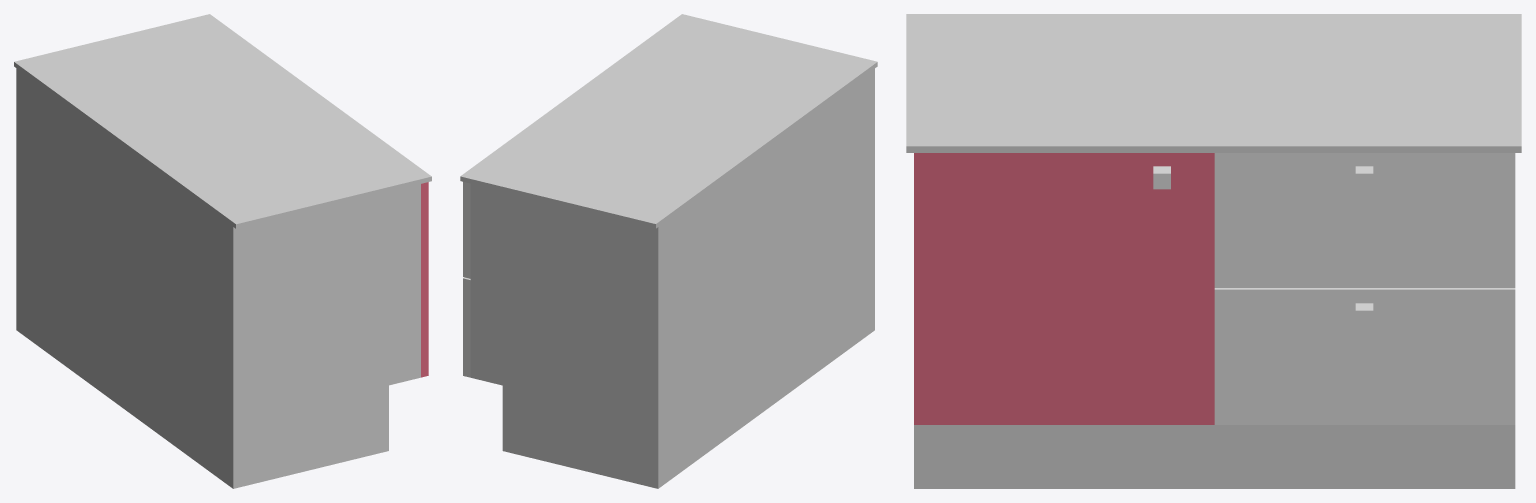
File: TestiKaapit.fbx
3 views of the same model, side by side, from view 1: azimuth 30°, elevation 25°; view 2: azimuth 150°, elevation 25°; view 3: azimuth 270°, elevation 25° (orthographic). The views are drawn at different scales.
Visible parts, largest first — view 1: Cube.007, KaappiOvi; view 2: Cube.007, LaatikkoAla, LaatikkoYlä; view 3: Cube.007, KaappiOvi, LaatikkoAla, LaatikkoYlä.
Boxes of the visible parts, left/top/right/bottom form: Cube.007: left=14, top=14, right=431, bottom=488; KaappiOvi: left=421, top=182, right=428, bottom=377; Cube.007: left=460, top=14, right=877, bottom=488; LaatikkoAla: left=463, top=277, right=470, bottom=377; LaatikkoYlä: left=463, top=182, right=470, bottom=278; Cube.007: left=906, top=14, right=1521, bottom=488; KaappiOvi: left=914, top=153, right=1214, bottom=424; LaatikkoAla: left=1214, top=288, right=1515, bottom=424; LaatikkoYlä: left=1214, top=153, right=1515, bottom=287.
Bounding box in the file's own units: 65.89 × 81.42 × 123.
